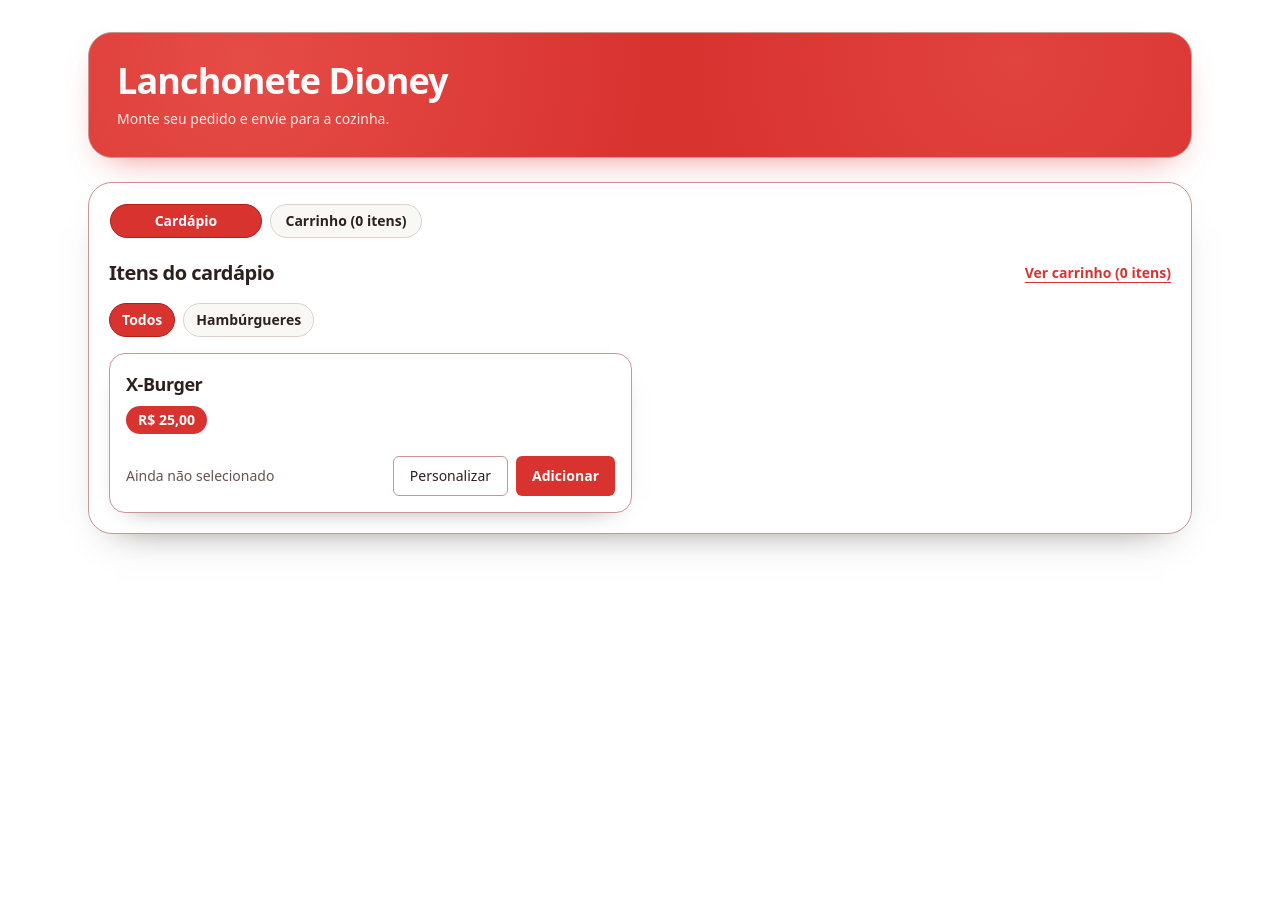
Test: CustomerOrderPage (Customer Order Submission) › uses wrapping/min-width guards in extras editor on mobile (brief: extras editor overflow bugfix structure)
The image size is (1280, 900).
Click the button "Personalizar".
click(450, 476)  # box [393,456,508,496]
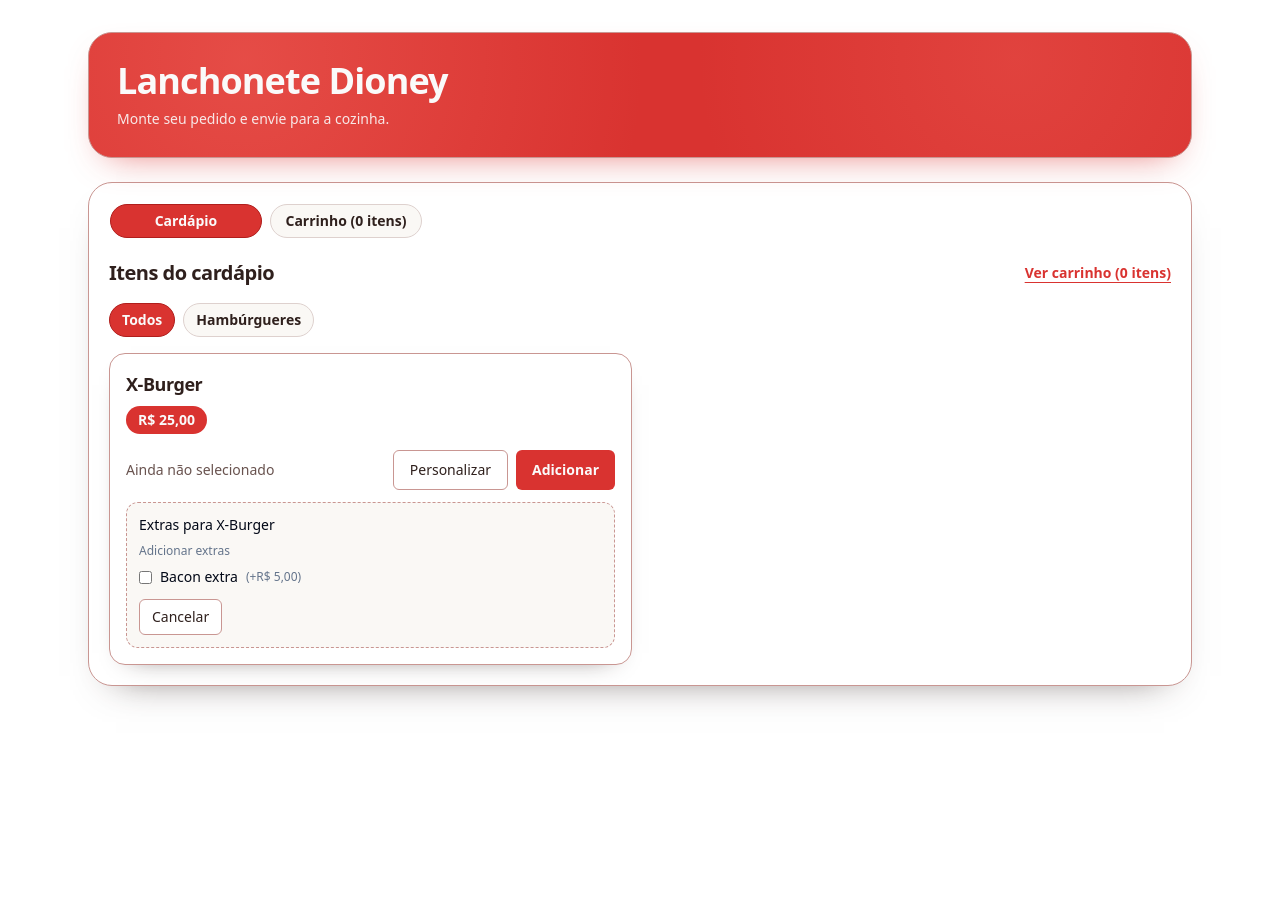
Result: the text "Extras para X-Burger" is shown at [126,502,615,648]
Result: the label labelled "Bacon extra (+R$ 5,00)" is shown at [139,567,301,586]
